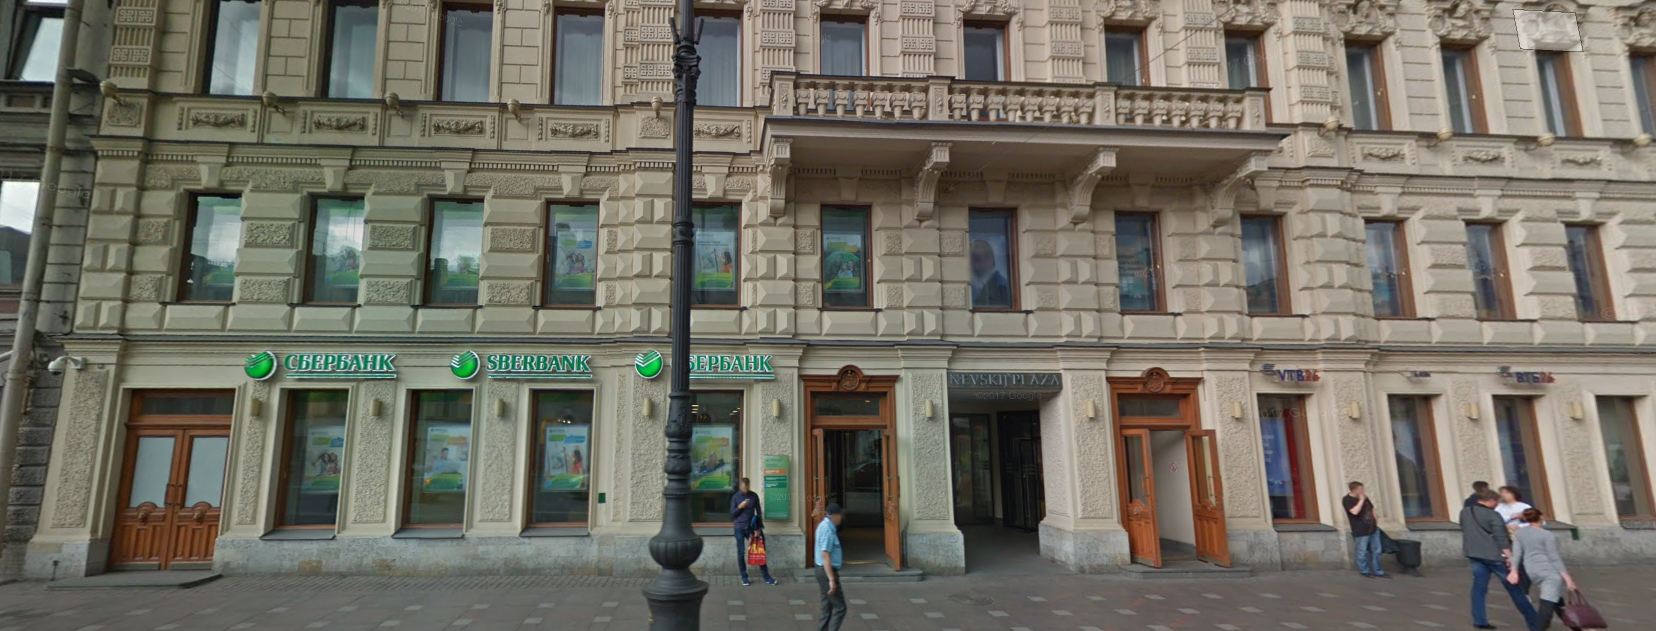door: (1103, 373, 1217, 563), (805, 375, 910, 567), (124, 392, 214, 564)
signboard: (239, 339, 404, 390), (444, 340, 599, 387), (625, 344, 779, 388), (947, 369, 1061, 395), (1254, 353, 1322, 394), (1492, 359, 1568, 393)
window: (1485, 393, 1558, 534), (396, 387, 465, 533), (279, 389, 339, 528), (1254, 397, 1315, 532), (530, 389, 587, 526), (1386, 394, 1443, 531), (193, 1, 262, 103), (310, 1, 380, 100), (534, 197, 597, 307), (307, 191, 363, 311), (684, 1, 747, 108), (672, 200, 733, 303), (422, 192, 479, 301), (1566, 220, 1625, 322), (549, 1, 605, 108), (822, 202, 877, 308), (437, 1, 492, 103), (1435, 37, 1489, 140), (1363, 217, 1415, 320), (965, 205, 1015, 310), (1464, 215, 1511, 323), (184, 193, 233, 297), (1244, 210, 1293, 314), (1112, 214, 1163, 307), (1355, 33, 1389, 133), (964, 14, 1009, 88), (1224, 22, 1268, 91), (822, 13, 870, 75), (1104, 23, 1147, 85)
